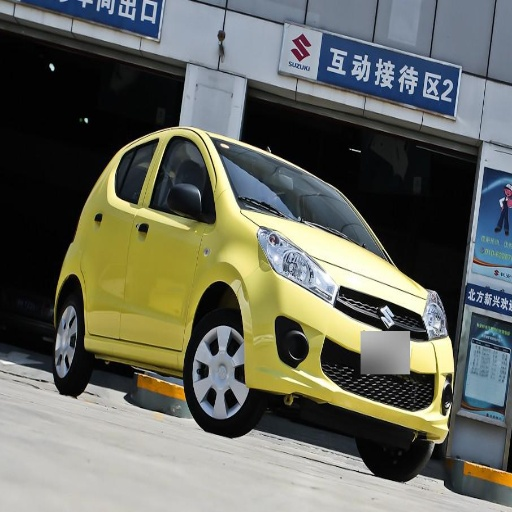front_bumper: (243, 265, 454, 440)
front_right_door: (121, 132, 214, 350)
front_right_light: (258, 225, 337, 298)
